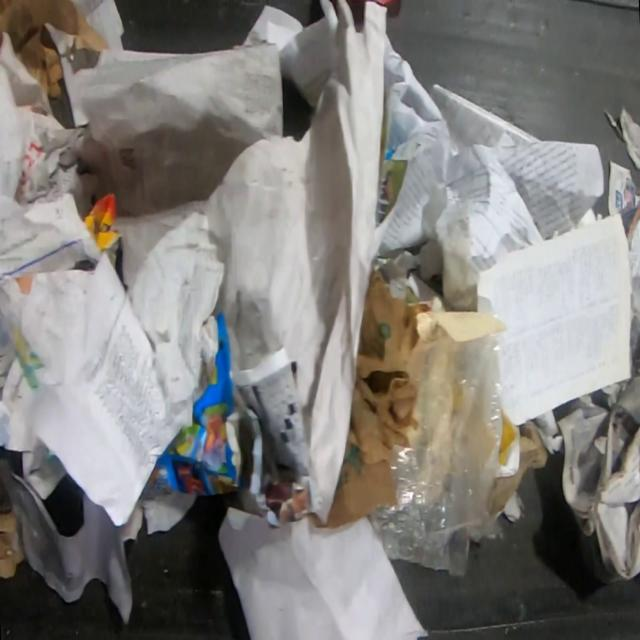cardboard: (326, 272, 420, 528), (490, 419, 548, 516), (0, 464, 23, 578)
rigid_plastic: (366, 0, 396, 4)
soft_plastic: (370, 330, 510, 577), (486, 310, 504, 325)
